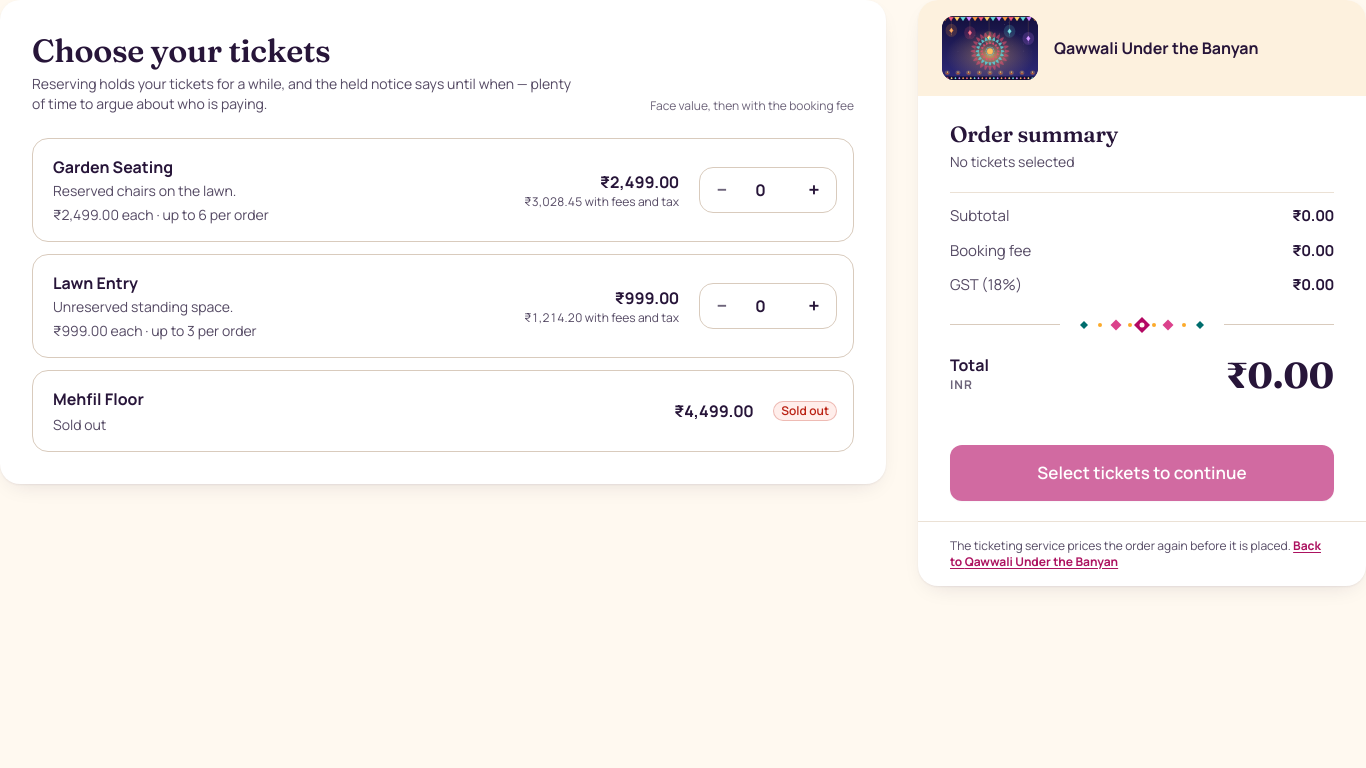
Test: CheckoutBasket › will not let a buyer take more than is left
Click the button named "Add one Lawn Entry" at (814, 306), box [792,284,836,328]
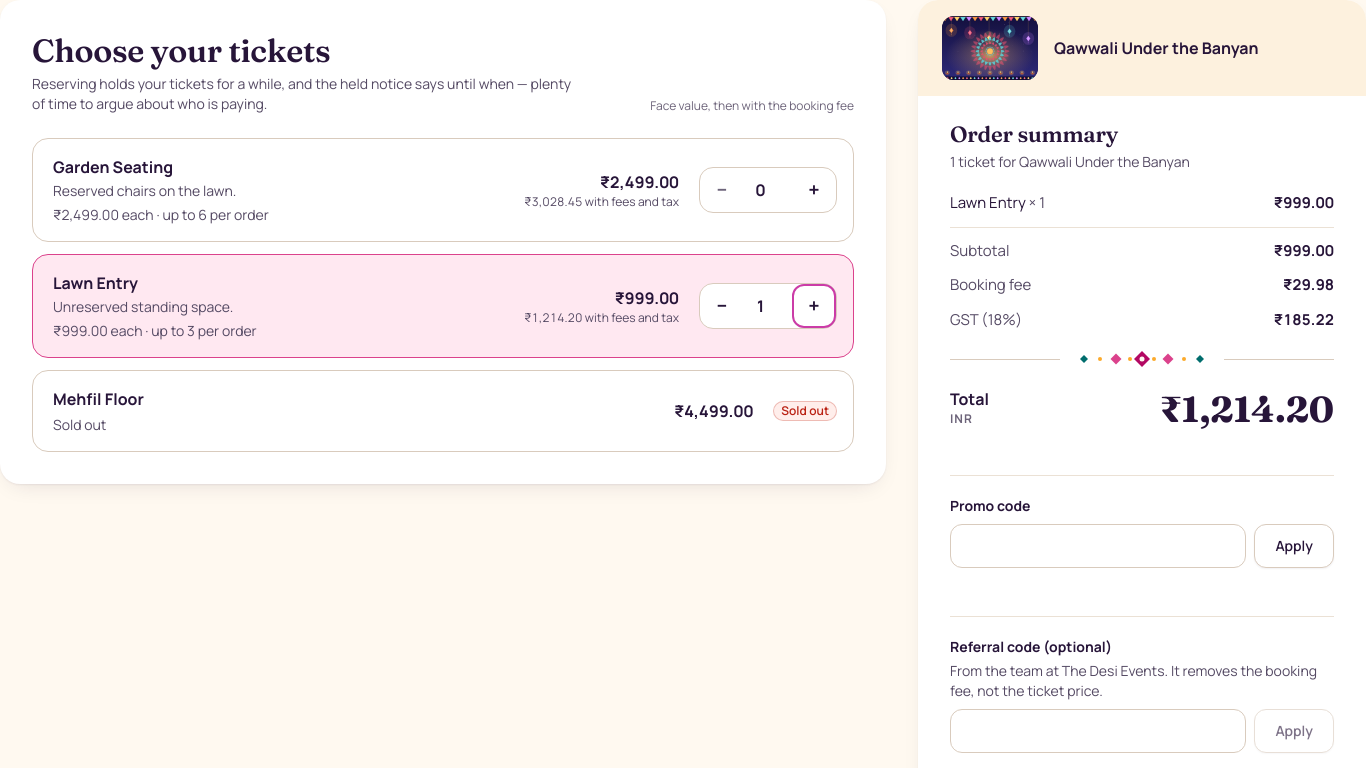
Click the button named "Add one Lawn Entry" at (814, 306), box [792,284,836,328]
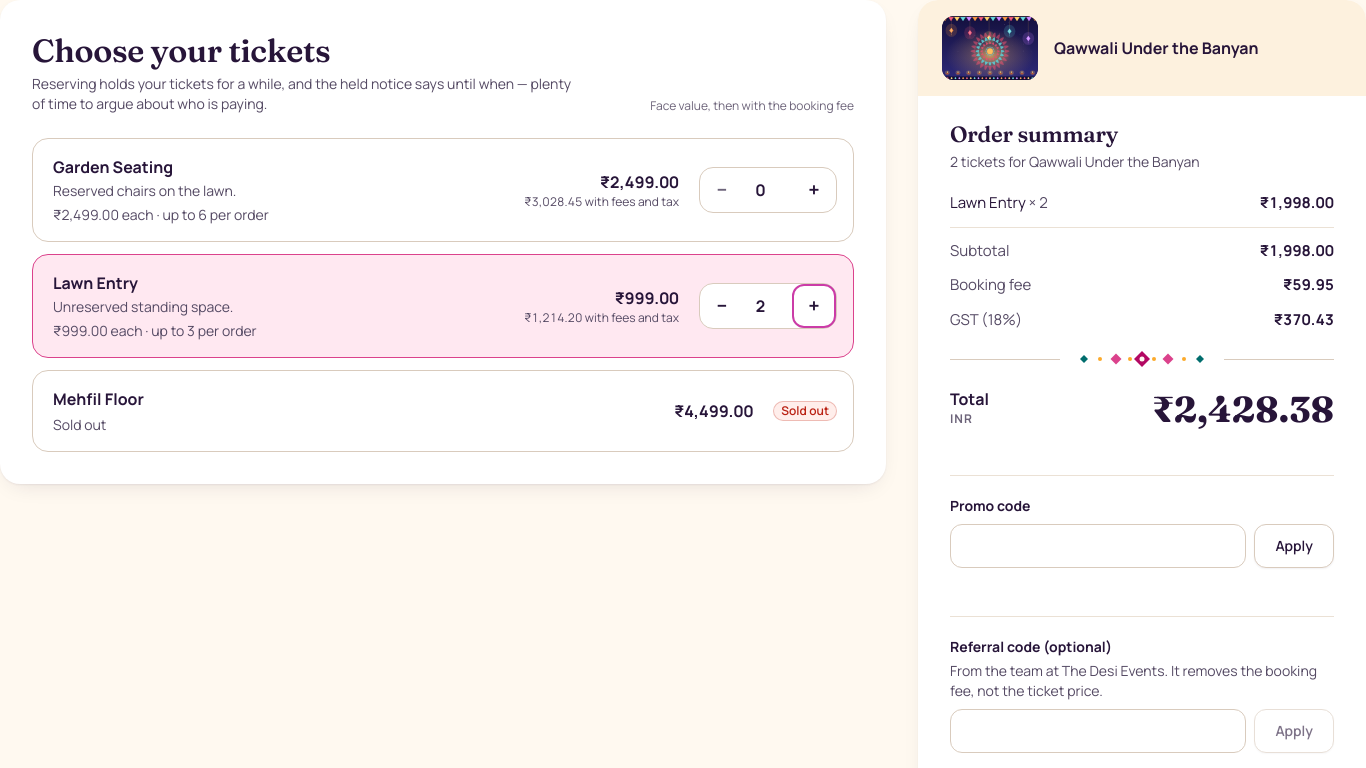
Click the button named "Add one Lawn Entry" at (814, 306), box [792,284,836,328]
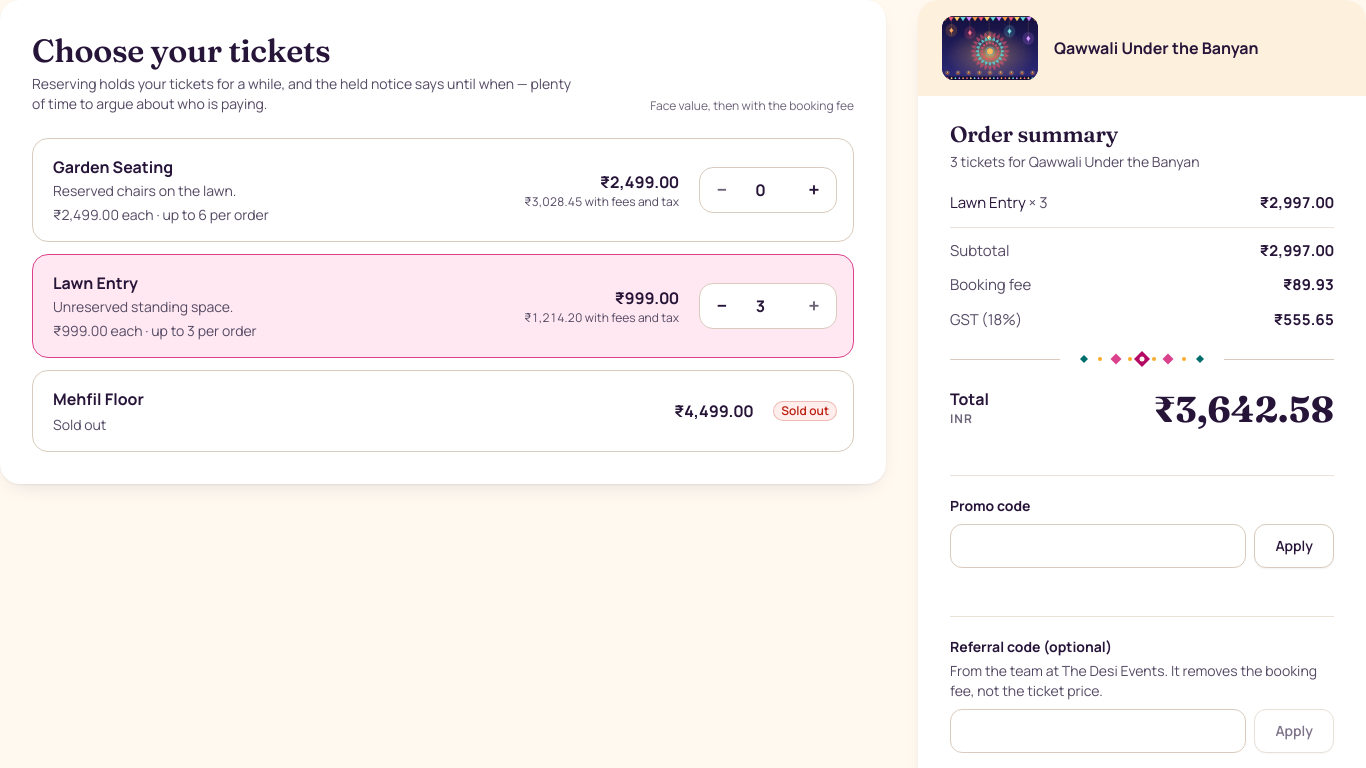
Now the number field named "Quantity of Lawn Entry" in the row of "Unreserved standing space." holds "3", box [746,284,790,328]
Now the button named "Add one Lawn Entry" is disabled, box [792,284,836,328]
